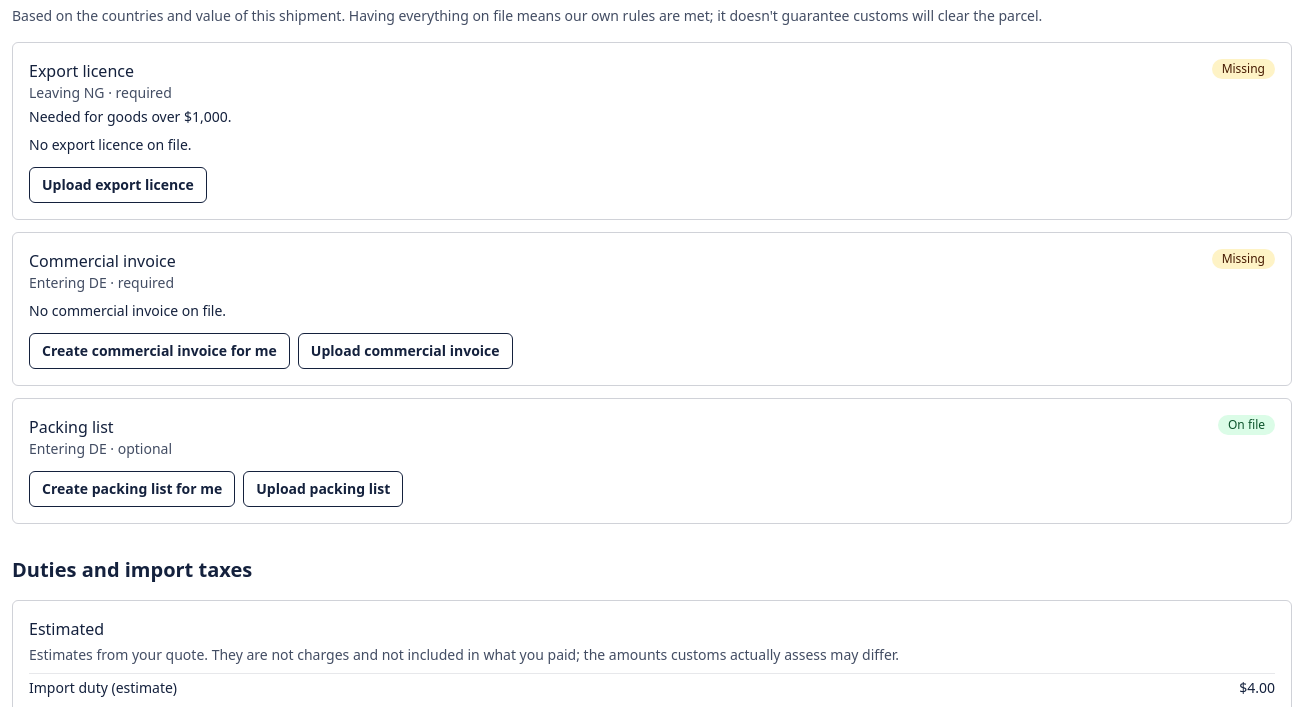
Test: uploading and creating documents › creates the document from the shipment's own details and downloads it
The width and height of the screenshot is (1292, 707).
(page scrolled)
Click the button "Create commercial invoice for me" at (159, 351), box [29, 333, 290, 369]
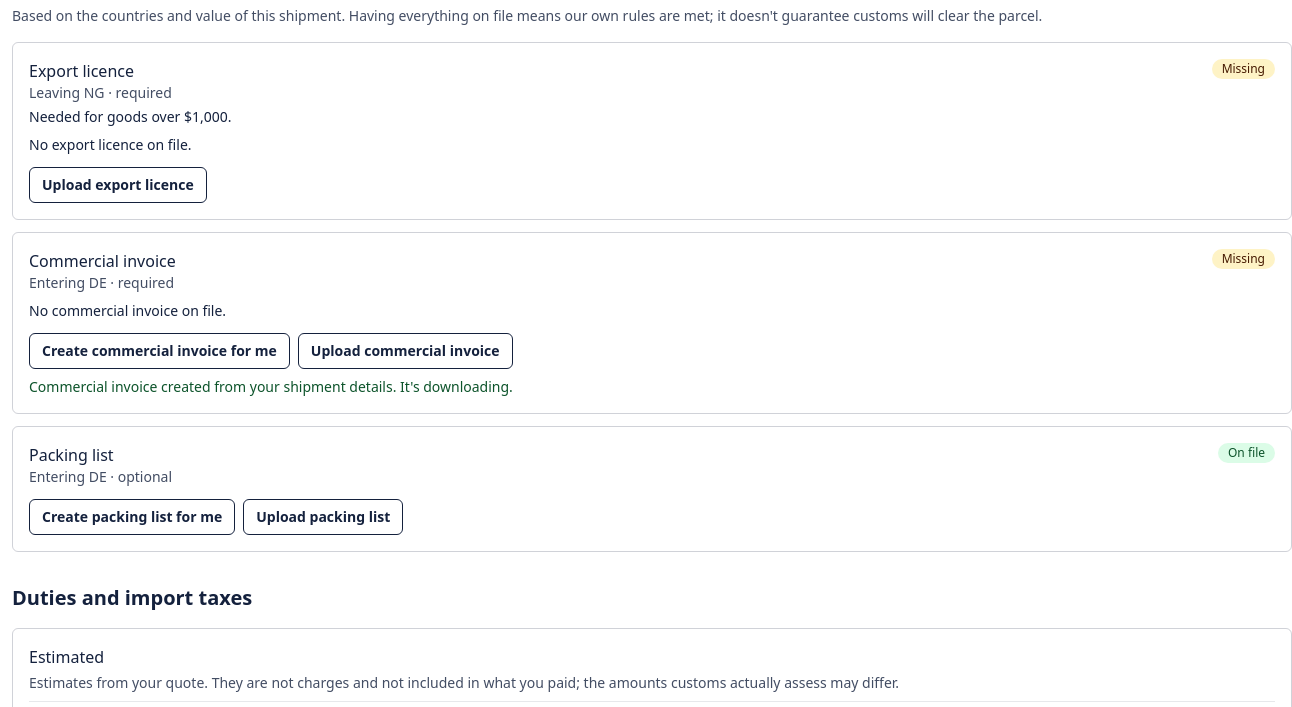
Expected: the text "Commercial invoice created from your shipment details. It's downloading." is shown, [29, 377, 513, 396]
